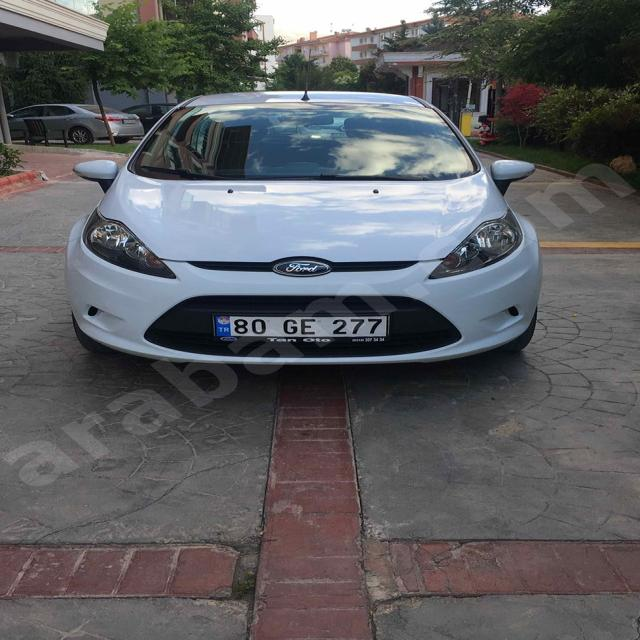license_plate: (212, 315, 388, 338)
